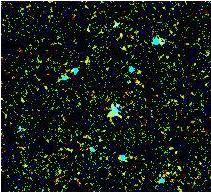star: (72, 46, 102, 76)
